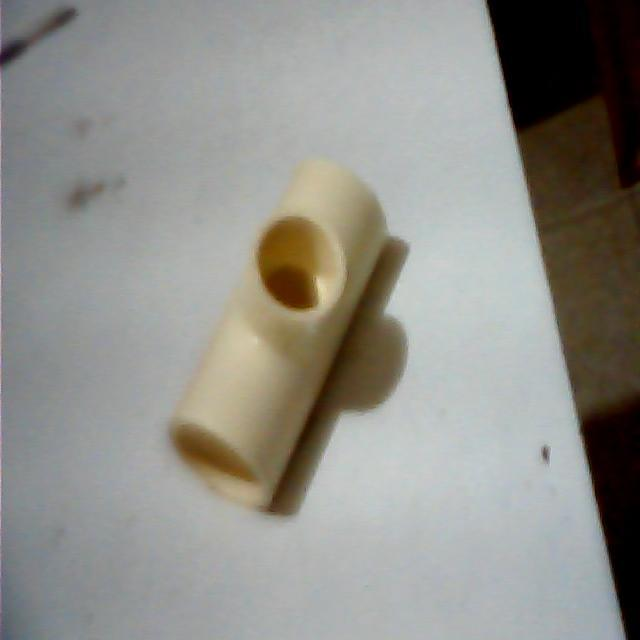T Joint: (169, 159, 391, 512)
